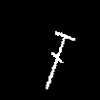double_crochet: (46, 31, 74, 88)
